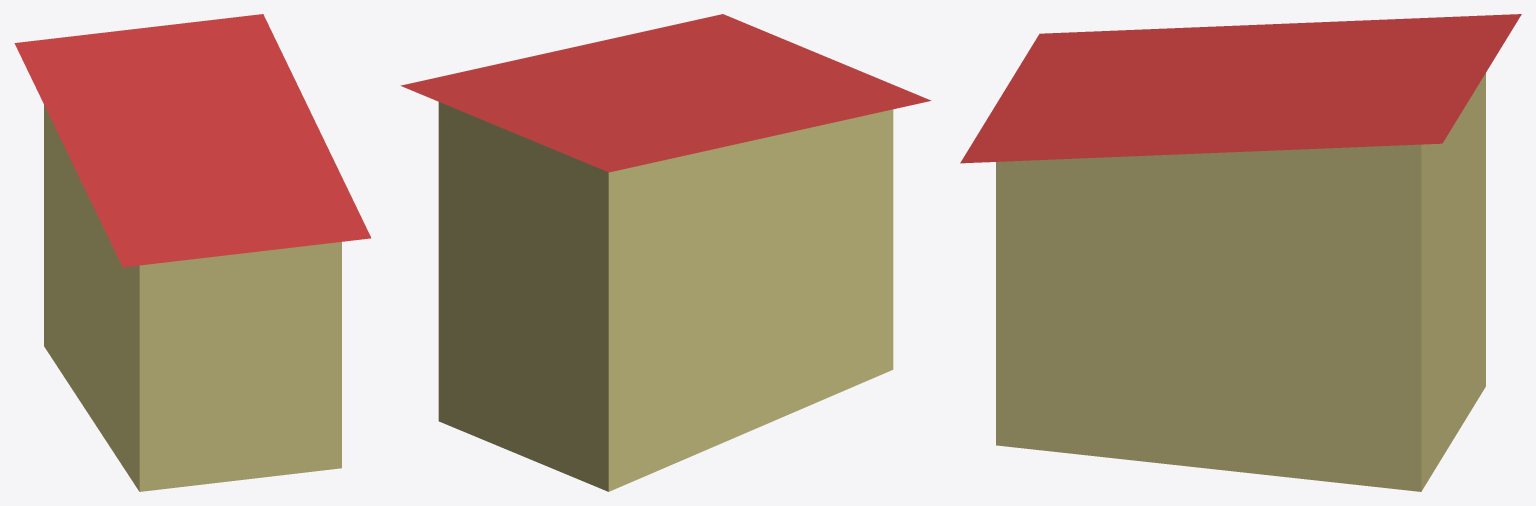
The picture shows the model from 3 angles, left to right: view 1: azimuth 30°, elevation 25°; view 2: azimuth 150°, elevation 25°; view 3: azimuth 270°, elevation 25°; orthographic projection. The views are drawn at different scales.
Size of the model in its own units: 7.32 by 9.53 by 6.8.
